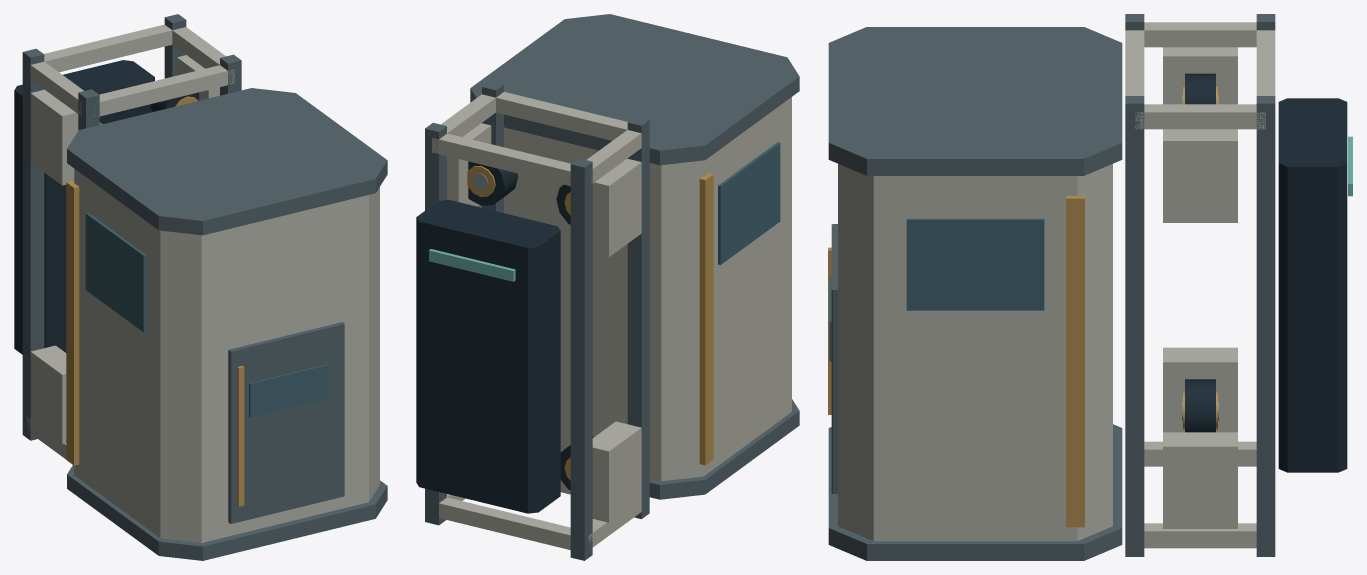
File: climber_d0_lod1.glb
3 renders of one model, left to right at view 1: azimuth 30°, elevation 25°; view 2: azimuth 150°, elevation 25°; view 3: azimuth 270°, elevation 25°, orthographic. The views are drawn at different scales.
Parts seen in each view (by area): view 1: CLIMBER_STRUCTURE, CLIMBER_HATCH_SURFACE; view 2: CLIMBER_STRUCTURE, ROLLER_R_HIGH_SURFACE; view 3: CLIMBER_STRUCTURE, CLIMBER_HATCH_SURFACE, ROLLER_L_LOW_SURFACE, ROLLER_L_HIGH_SURFACE.
Boxes of the visible parts, x1,y1,x2,y2 form: CLIMBER_STRUCTURE: (14,14,387,560); CLIMBER_HATCH_SURFACE: (228,322,344,523); CLIMBER_STRUCTURE: (416,14,799,560); ROLLER_R_HIGH_SURFACE: (467,161,517,205); CLIMBER_STRUCTURE: (828,14,1352,560); CLIMBER_HATCH_SURFACE: (828,224,837,493); ROLLER_L_LOW_SURFACE: (1182,379,1218,432); ROLLER_L_HIGH_SURFACE: (1182,73,1218,104).
Size of the model in its own units: 5.02 by 8 by 8.4.
